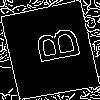B: (24, 25, 81, 68)
